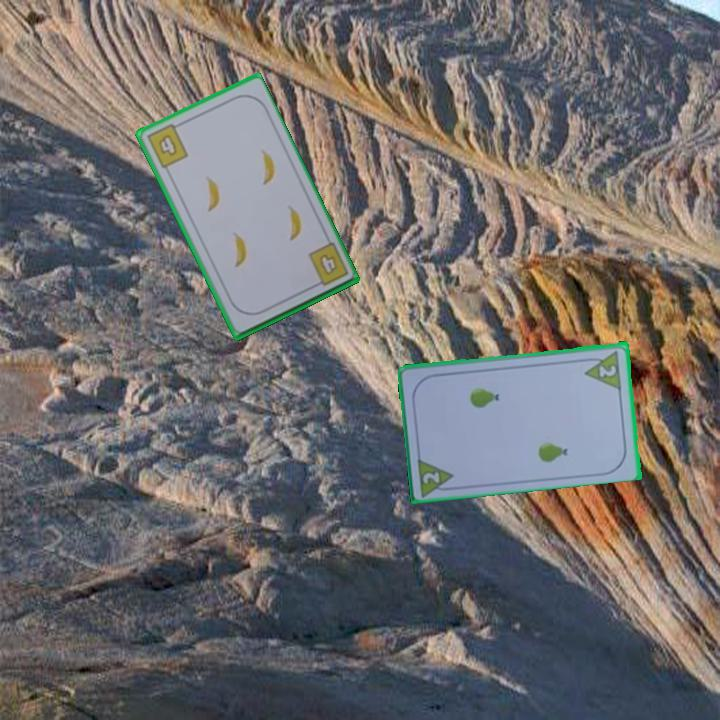2p: (414, 453, 459, 498), (595, 361, 619, 380)
4b: (143, 119, 191, 171), (305, 239, 351, 290)
